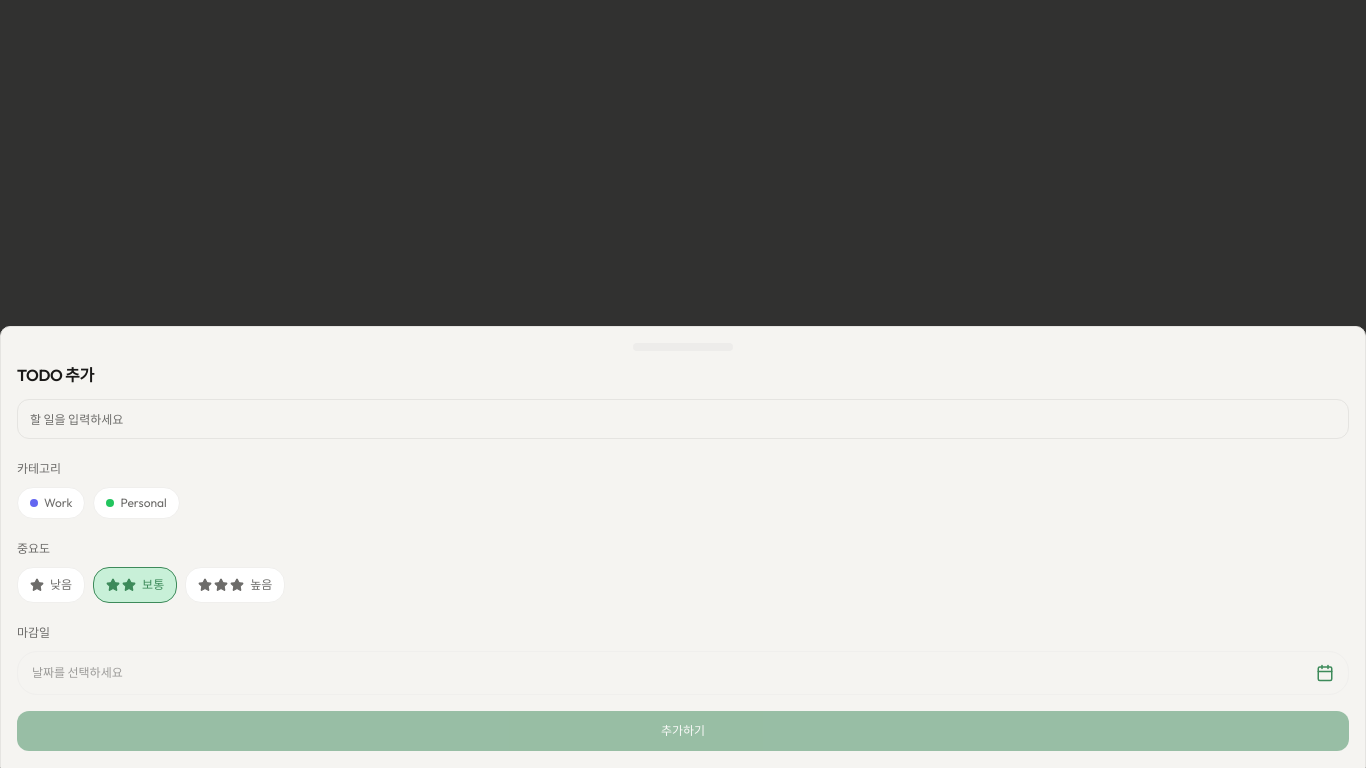
it: TodoAddModal › Submission › should enable submit button when title has text
The width and height of the screenshot is (1366, 768).
Type "Something" into the field with placeholder "할 일을 입력하세요".
click(683, 419); type("Something")  # box 17,399 -> 1349,439
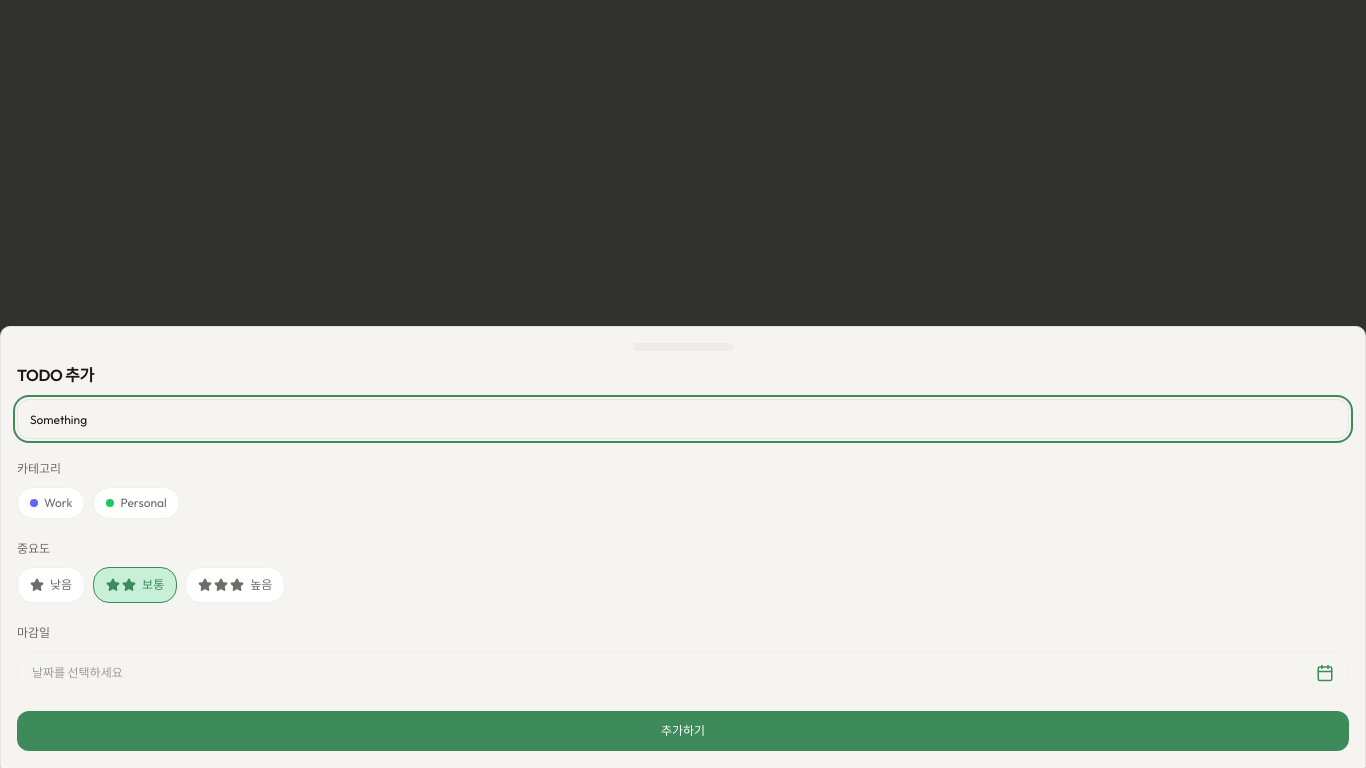
expect the button "추가하기" is enabled: met, box 17,711 -> 1349,751
